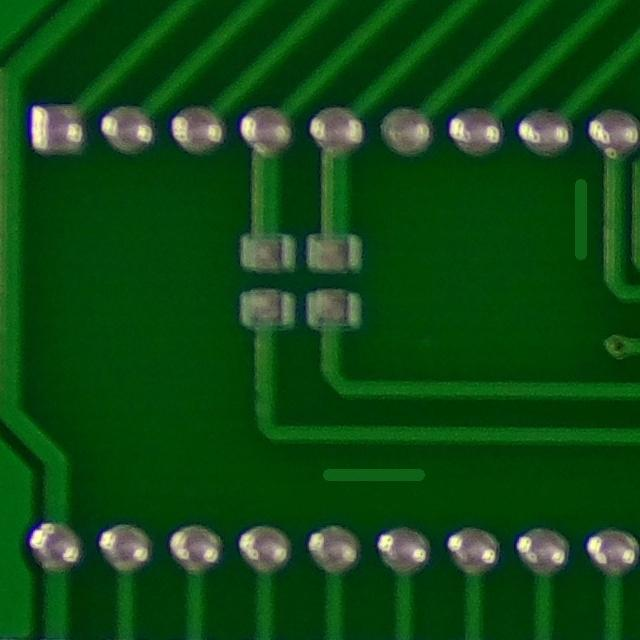spurious_copper: (311, 441, 432, 505), (552, 162, 605, 270)
